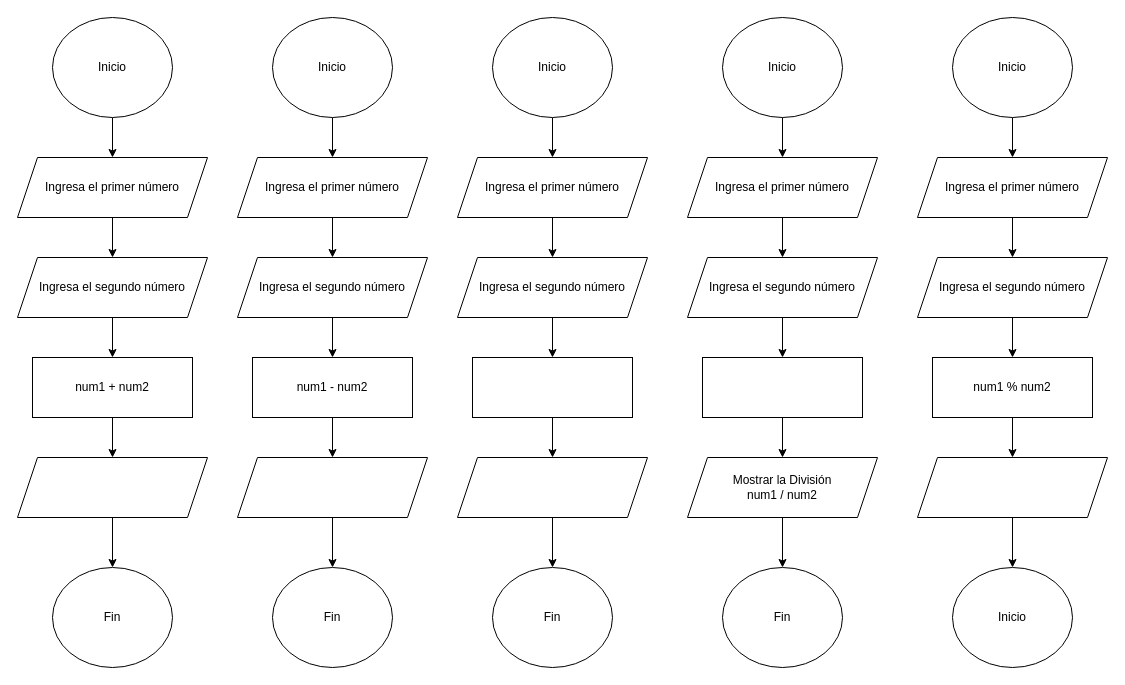
Some shapes in this 1125 by 685 pixel diagram are drawn without their labels. The shapes that lost their labels are listed below. From the top down, each one's box as (x1, y1, x2, y2) in pixels, then its label:
(472, 356, 632, 418): num1 * num2
(702, 356, 862, 418): num1 / num2
(16, 456, 208, 518): Mostrar la suma num1 + num2
(236, 456, 428, 518): Mostrar la resta num1 - num2
(456, 456, 648, 518): Mostrar la Multipliación num1 * num2
(916, 456, 1108, 518): Mostrar la modulo num1 % num2
